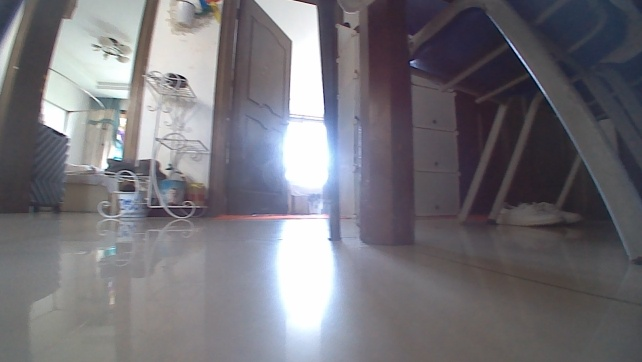bed1: (61, 163, 110, 214)
blanket: (216, 211, 353, 219)
door_anno: (205, 0, 292, 221)
shoe: (495, 200, 568, 229), (530, 198, 583, 225)
